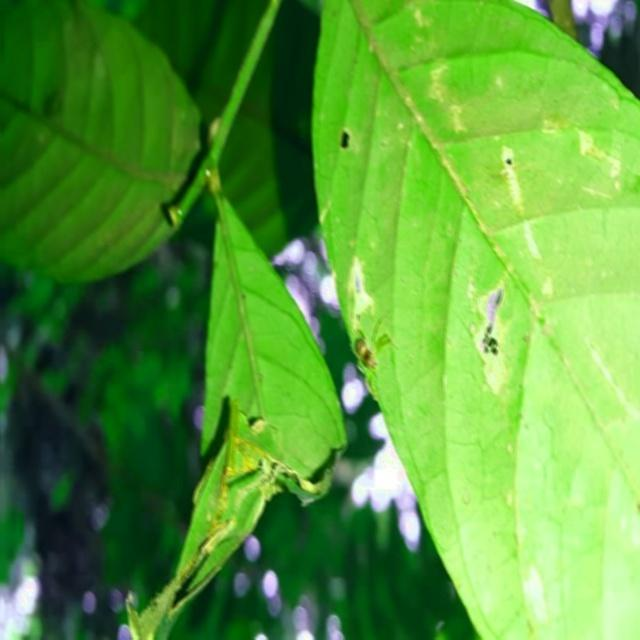shot_hole: (316, 1, 640, 638)
